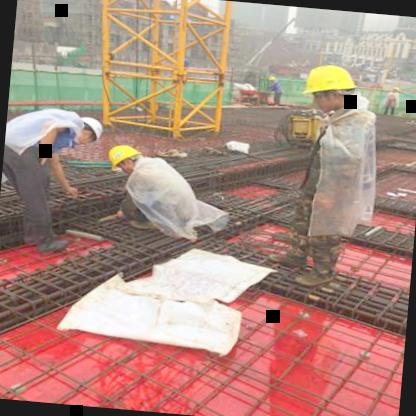helmet: (296, 58, 364, 116), (64, 110, 109, 150), (104, 142, 144, 176)
